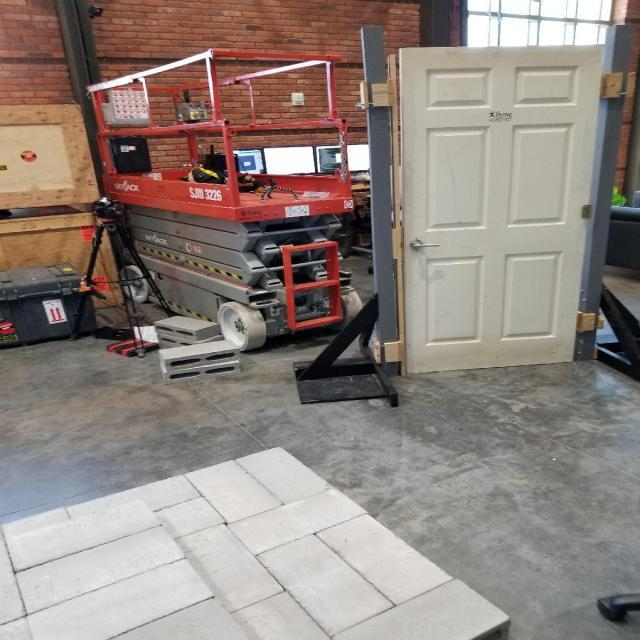door: (396, 42, 608, 377), (407, 238, 440, 256)
